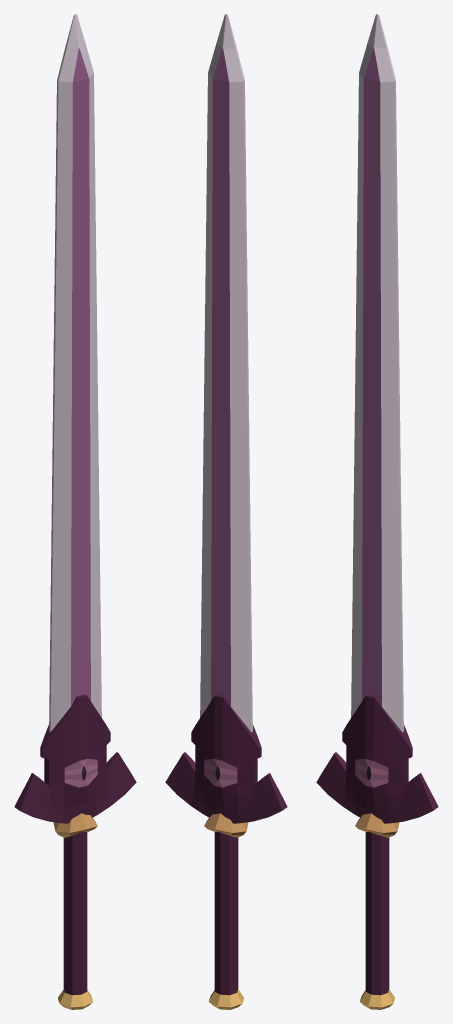
Rendered from free_one_handed_sword_2.fbx.
3 views of the same model, side by side, from view 1: azimuth 30°, elevation 25°; view 2: azimuth 150°, elevation 25°; view 3: azimuth 330°, elevation 25° (orthographic).
Visible parts, largest first — view 1: free_one_handed_sword_2; view 2: free_one_handed_sword_2; view 3: free_one_handed_sword_2.
Boxes of the visible parts, bbox=[...] form: free_one_handed_sword_2: bbox=[14, 14, 136, 1009]; free_one_handed_sword_2: bbox=[165, 14, 287, 1009]; free_one_handed_sword_2: bbox=[316, 14, 438, 1009].
Size of the model in its own units: 0.197 by 1.6 by 0.0675.
1 material, 1 textured.
